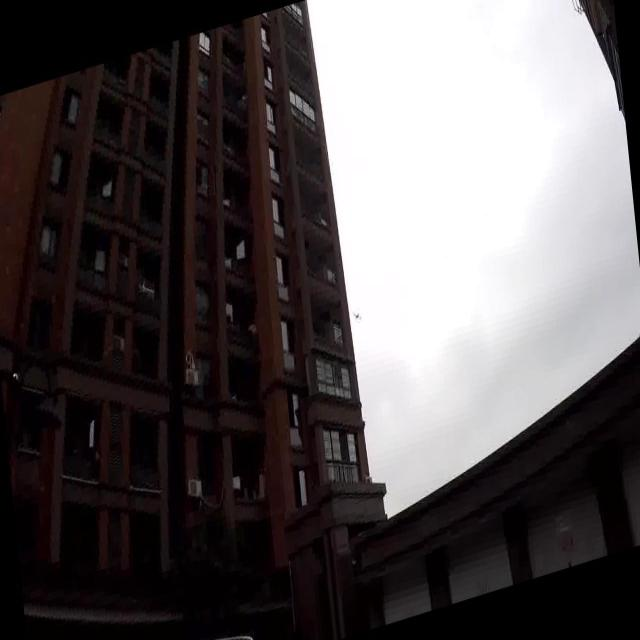drone: (350, 302, 366, 328)
